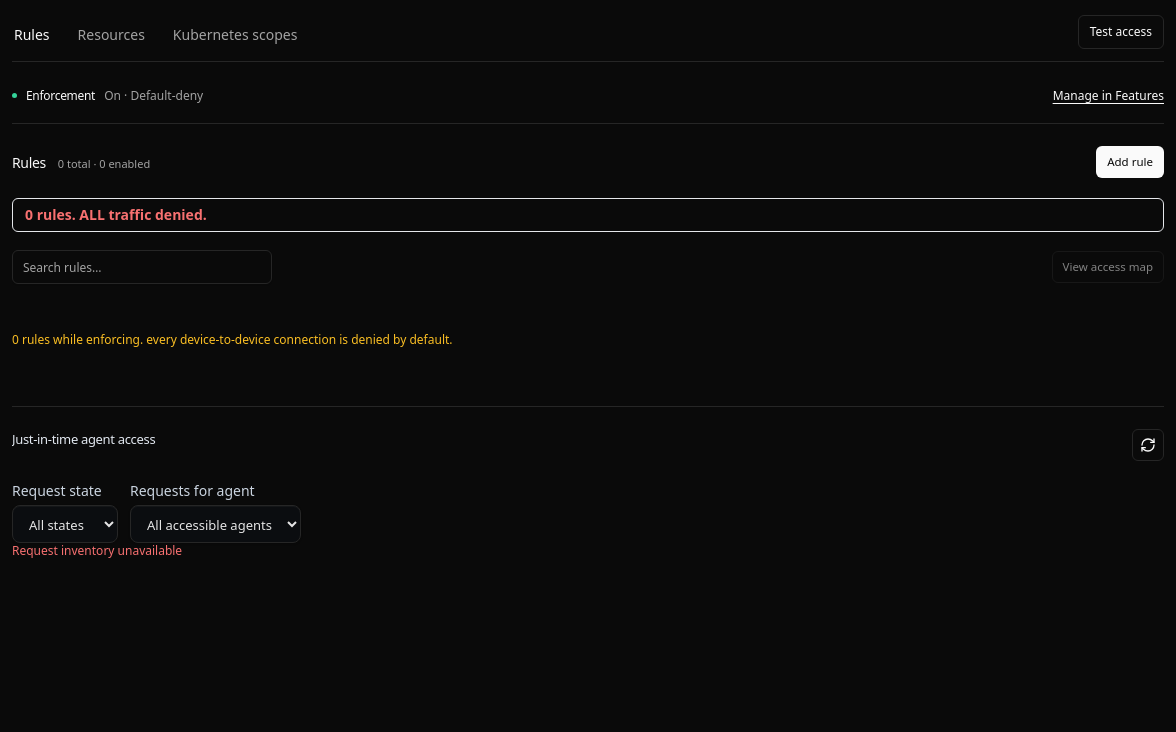
it: released F10 JIT agent access workflow › does not describe a failed request read as empty or allow a request write
Expected: the text "Request inventory unavailable" is shown, [12,542,182,559]
Expected: the text "No temporary access requests." is not shown
Click the button named "Refresh".
click(1148, 445)  # box [1132,429,1164,461]
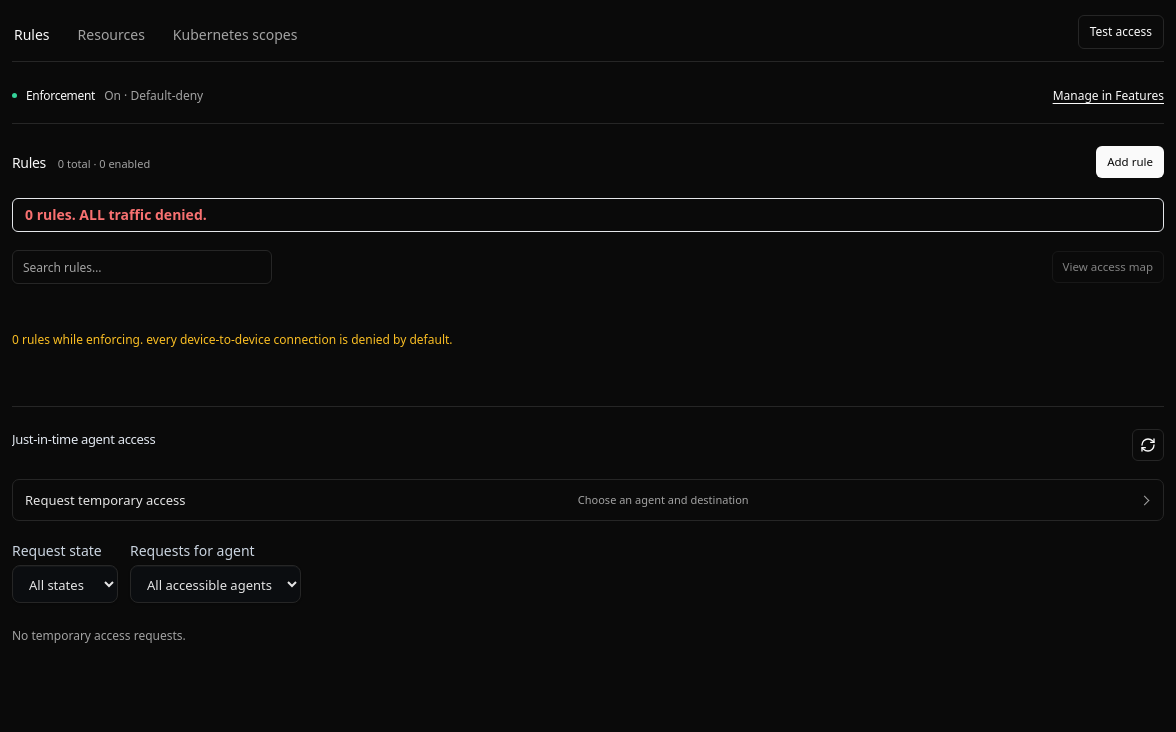
Result: the text "No temporary access requests." is shown at [12,627,186,644]
